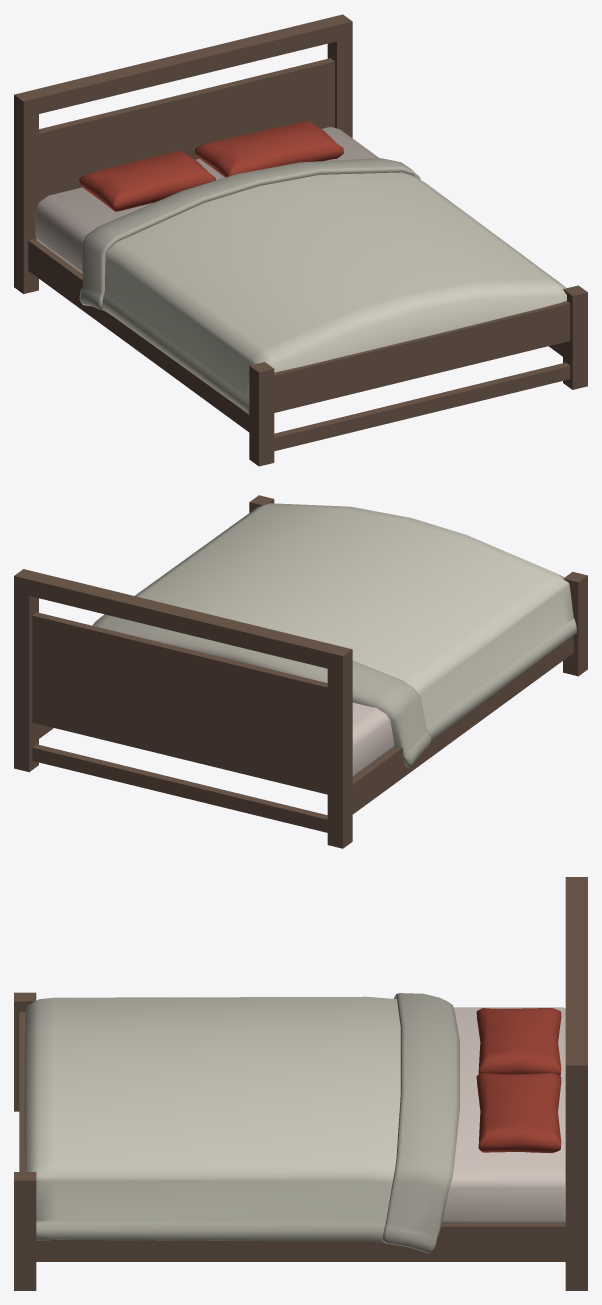
File: Bed_03_Double.fbx
3 views of the same model, one above another, from view 1: azimuth 30°, elevation 25°; view 2: azimuth 150°, elevation 25°; view 3: azimuth 270°, elevation 25° (orthographic). The views are drawn at different scales.
Visible parts, largest first — view 1: Bed_03_Double; view 2: Bed_03_Double; view 3: Bed_03_Double.
Boxes of the visible parts, left/top/right/bottom form: Bed_03_Double: left=14, top=14, right=587, bottom=466; Bed_03_Double: left=14, top=495, right=587, bottom=848; Bed_03_Double: left=14, top=877, right=587, bottom=1290.
Size of the model in its own units: 1.61 by 0.8858 by 2.04.
